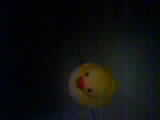duck: (66, 56, 118, 99)
